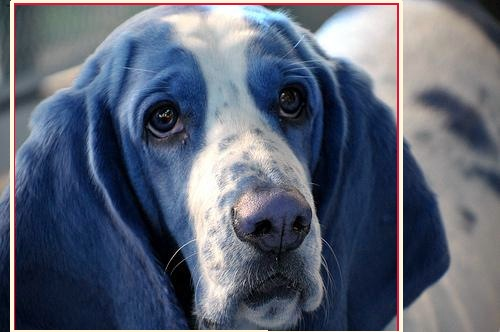dog-basset_hound: (1, 1, 450, 331)
